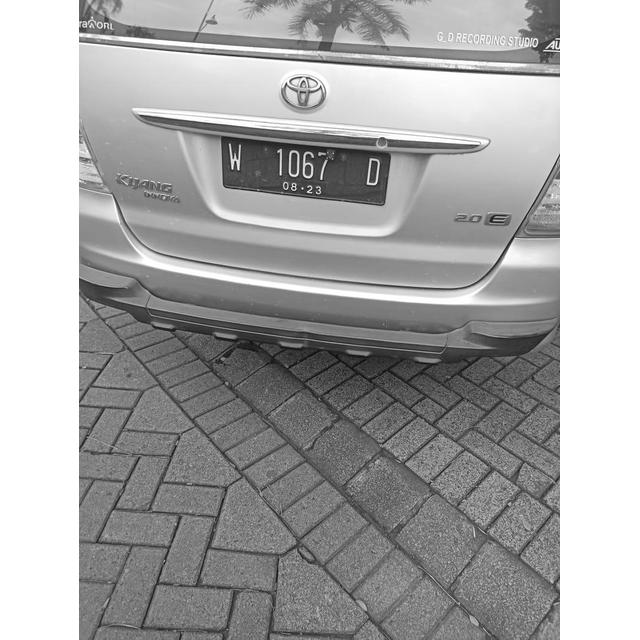license: (226, 141, 384, 201)
